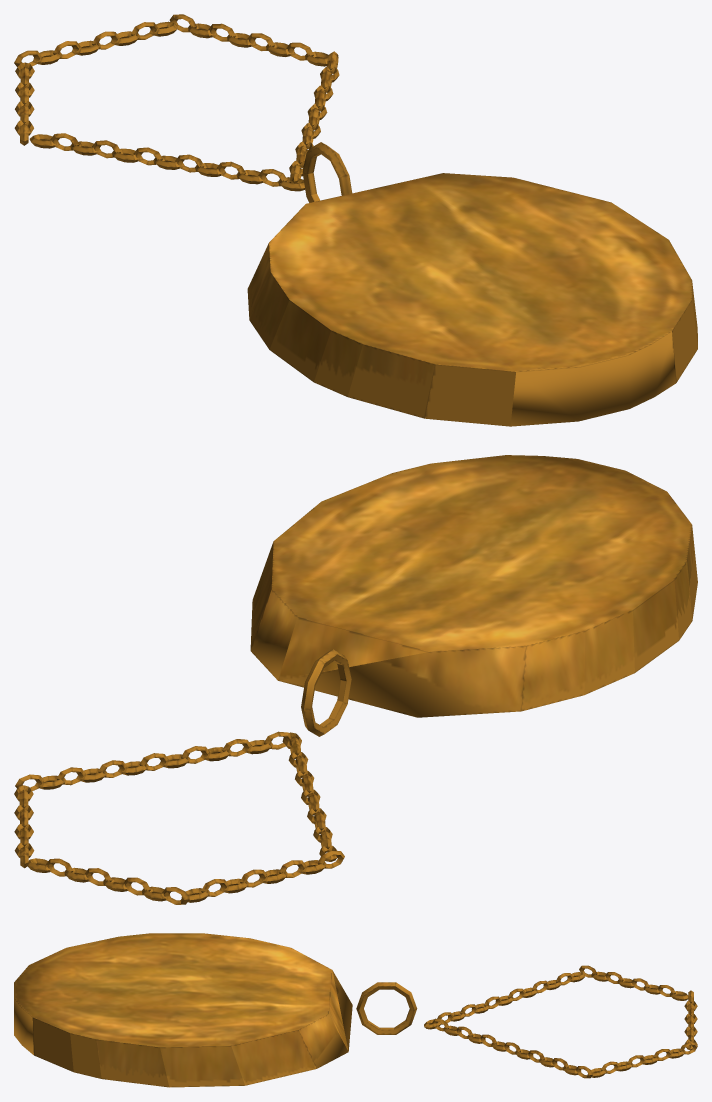
Rendered from item_mm9_10160.glb.
The picture shows the model from 3 angles, top to bottom: view 1: azimuth 30°, elevation 25°; view 2: azimuth 150°, elevation 25°; view 3: azimuth 270°, elevation 25°; orthographic projection. The views are drawn at different scales.
Parts seen in each view (by area): view 1: d10160; view 2: d10160; view 3: d10160.
Part boxes in pixels (x1,y1,x2,y2): d10160: (14,14,697,426); d10160: (14,455,697,904); d10160: (14,933,697,1087).
Size of the model in its own units: 19.63 by 3.97 by 46.8.
Materials: 1 (1 with a texture image).
